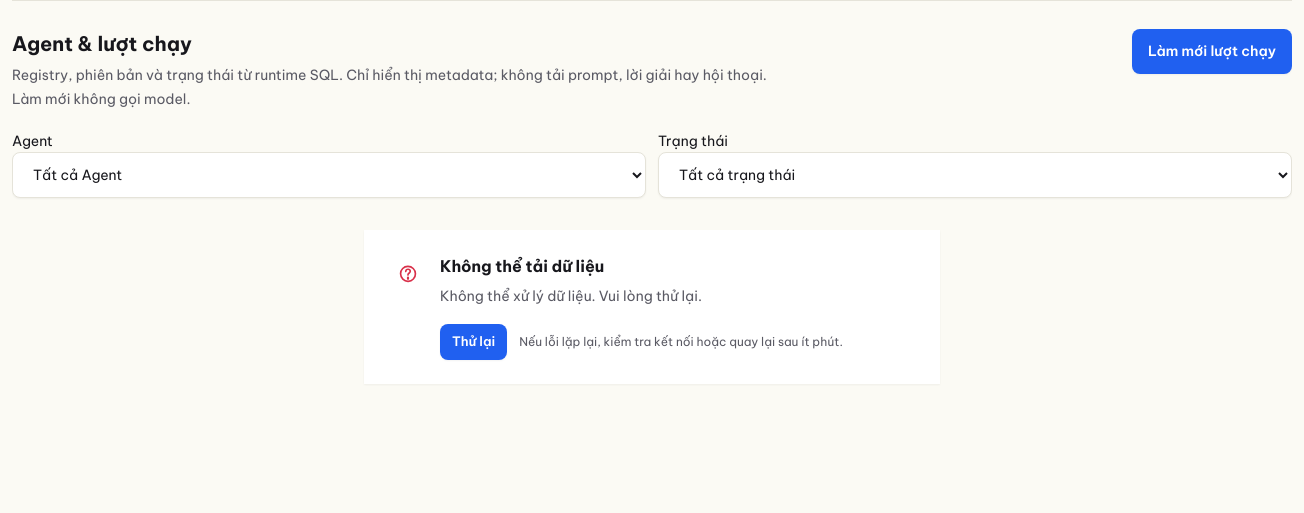
Test: business Agent operations metadata › recovers a metadata request failure through explicit retry
This screenshot has width=1304, height=513.
Click the button "Thử lại": (474,342) [440, 324, 507, 360]
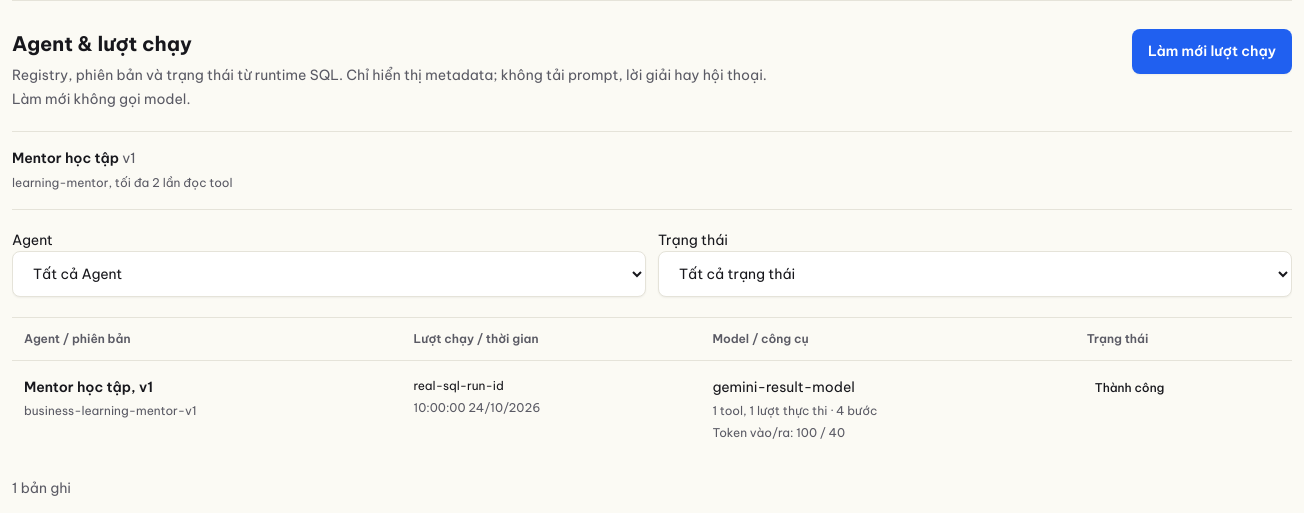
Now the text "real-sql-run-id" is shown, box [414, 378, 504, 393]
